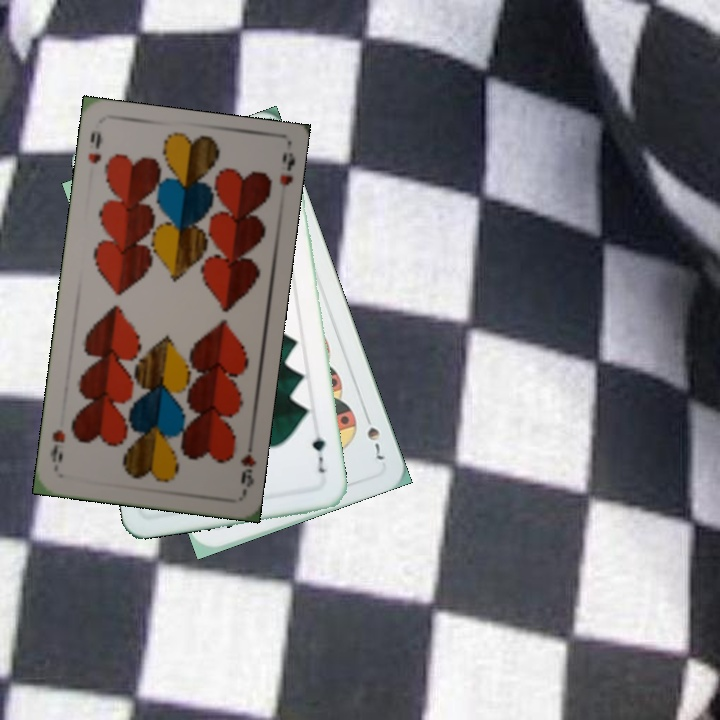G7: (308, 432, 328, 476)
H9: (236, 435, 258, 490), (84, 127, 104, 166)
S7: (359, 408, 387, 463)
